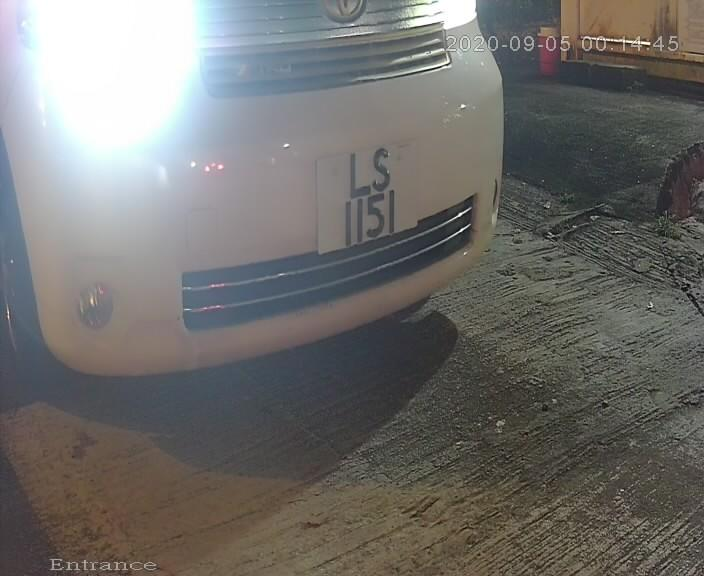License Plate: (287, 123, 438, 267)
